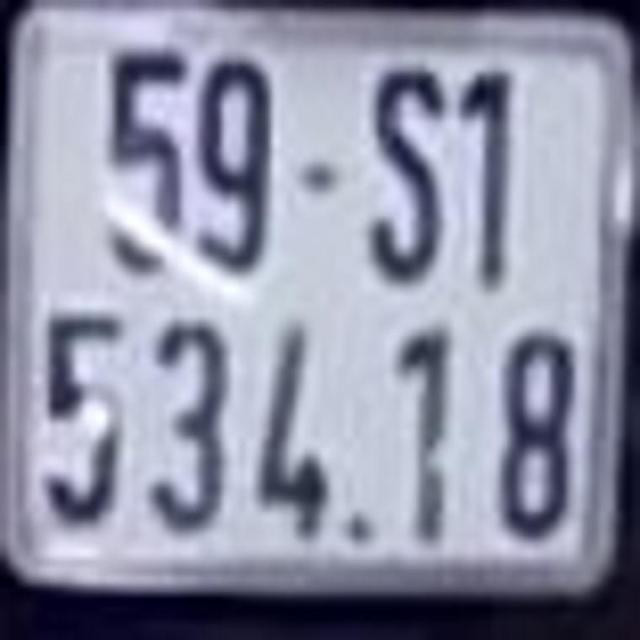1: (390, 322, 468, 553), (454, 44, 520, 290)
3: (152, 306, 228, 536)
4: (256, 311, 330, 552)
5: (104, 42, 190, 277), (43, 301, 122, 528)
8: (498, 315, 571, 543)
9: (193, 48, 274, 277)
S: (369, 48, 447, 282)
